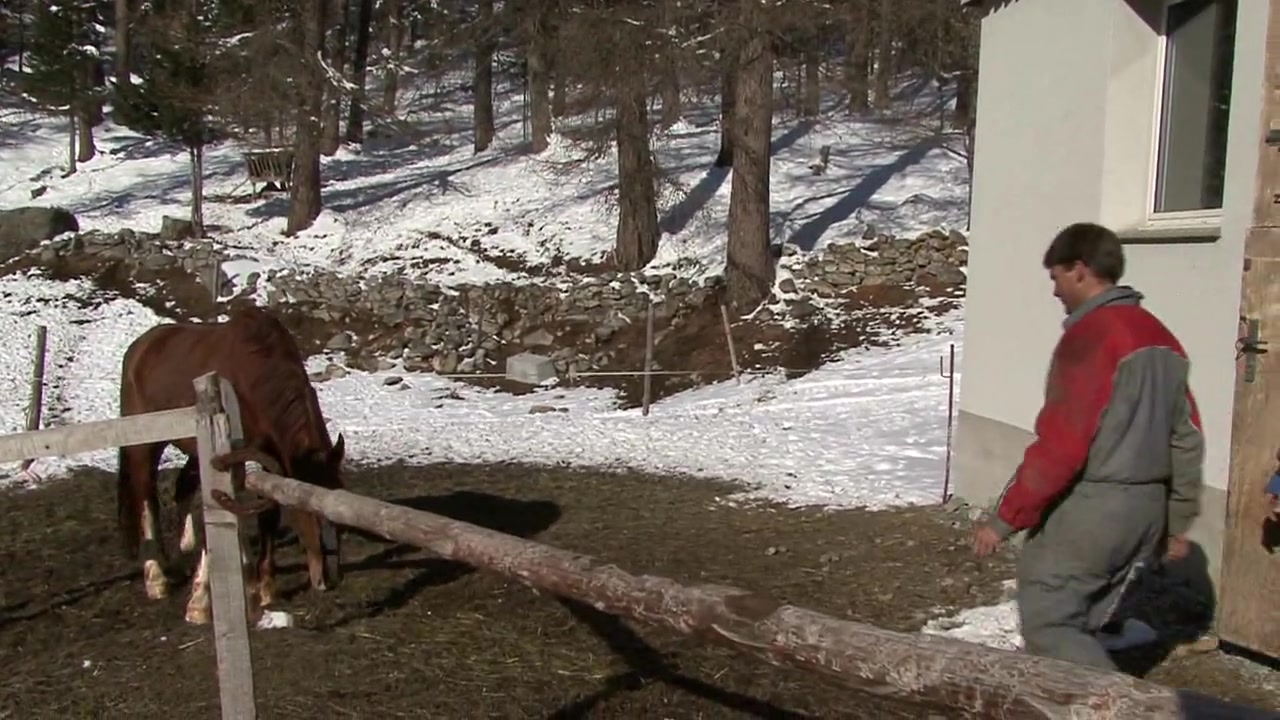horse: (118, 302, 360, 625)
